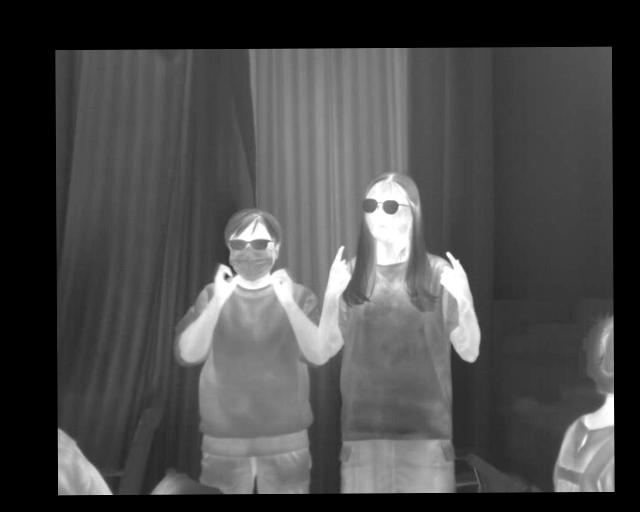face: (225, 207, 282, 282), (361, 172, 417, 242)
